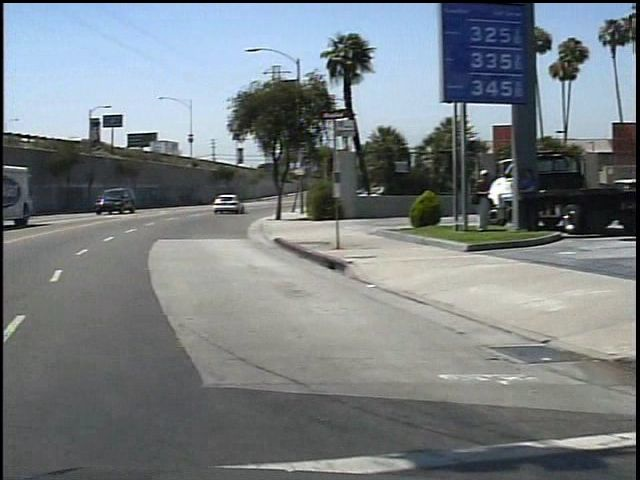person: (460, 165, 487, 233)
